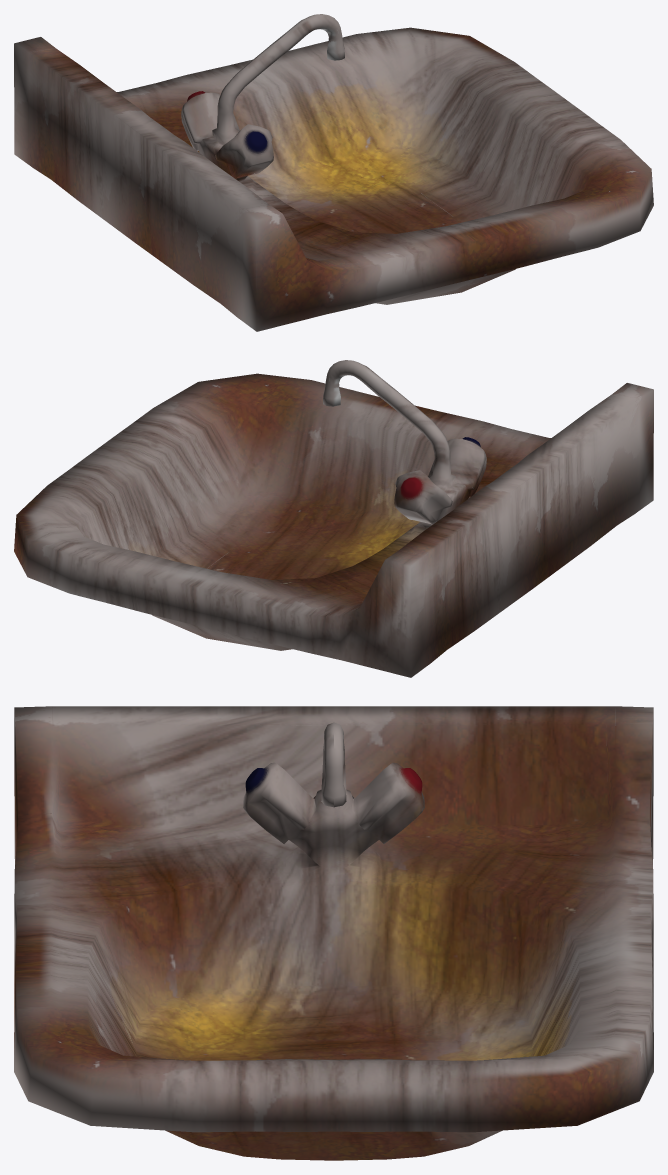
File: раковина текстура Untitled (10).glb
3 renders of one model, top to bottom at view 1: azimuth 30°, elevation 25°; view 2: azimuth 150°, elevation 25°; view 3: azimuth 270°, elevation 25°, orthographic. The views are drawn at different scales.
Visible parts, largest first — view 1: РАКОВИНА ЛОУ; view 2: РАКОВИНА ЛОУ; view 3: РАКОВИНА ЛОУ.
Boxes of the visible parts, bbox=[...] form: РАКОВИНА ЛОУ: bbox=[14, 14, 653, 331]; РАКОВИНА ЛОУ: bbox=[14, 360, 653, 677]; РАКОВИНА ЛОУ: bbox=[14, 706, 653, 1160].
Bounding box in the file's own units: 0.9995 × 0.6044 × 0.9695.
Materials: 1 (1 with a texture image).
